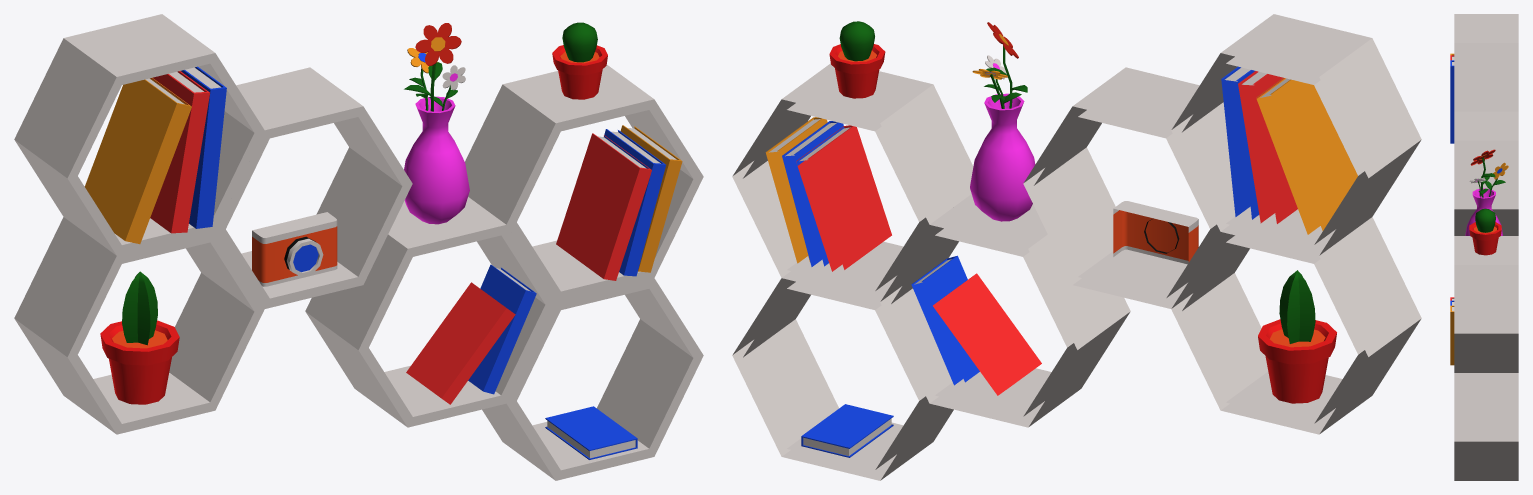
Rendered from ke dung sach.FBX.
3 views of the same model, side by side, from view 1: azimuth 30°, elevation 25°; view 2: azimuth 150°, elevation 25°; view 3: azimuth 270°, elevation 25° (orthographic). The views are drawn at different scales.
Parts seen in each view (by area): view 1: Tube007; view 2: Tube007; view 3: Tube007.
Boxes of the visible parts, x1,y1,x2,y2 form: Tube007: (14,14,703,480); Tube007: (732,14,1421,480); Tube007: (1450,14,1518,480).
Bounding box in the file's own units: 5.24 × 4.02 × 0.8079.
